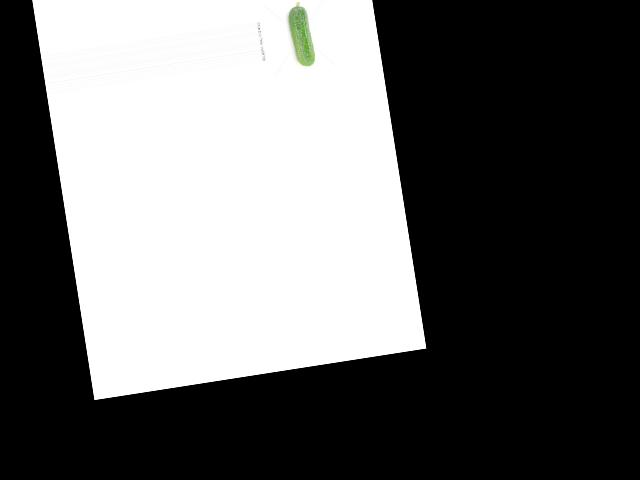cucumber: (286, 0, 316, 69)
